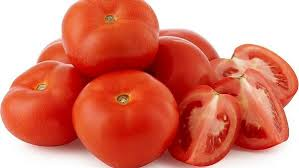tomato: (75, 59, 174, 160), (213, 52, 296, 153), (4, 52, 82, 139), (59, 1, 171, 59), (163, 84, 230, 159)
